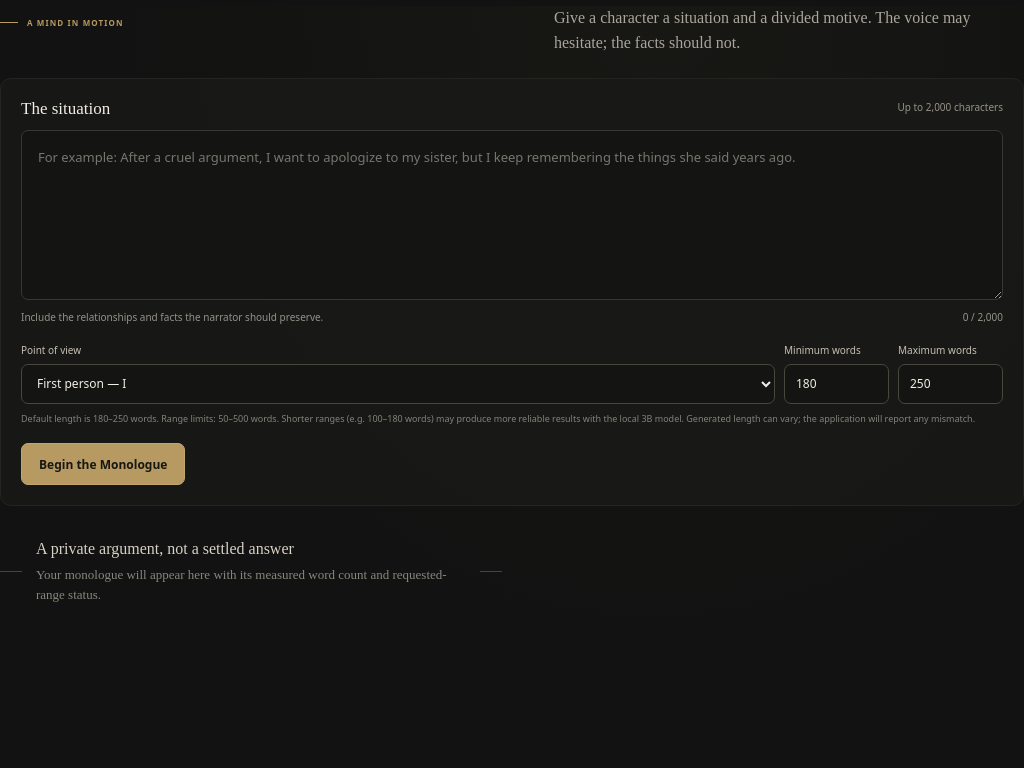
Test: InnerMonologue component › prevents empty submission with validation alert
The image size is (1024, 768).
What coordinates should you click on to do the following:
click the button "Begin the Monologue"
I would click on:
 (103, 464)
Its box is [21, 443, 185, 485].
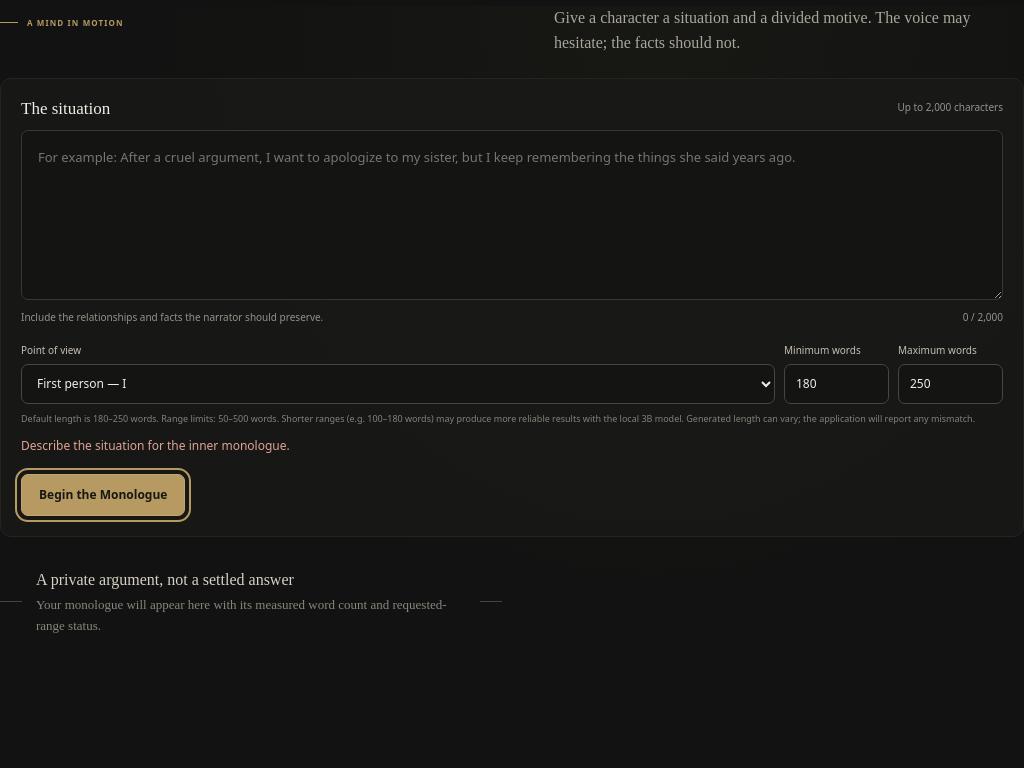
Expected: the message "Describe the situation for the inner monologue." is shown, [21, 437, 290, 454]
